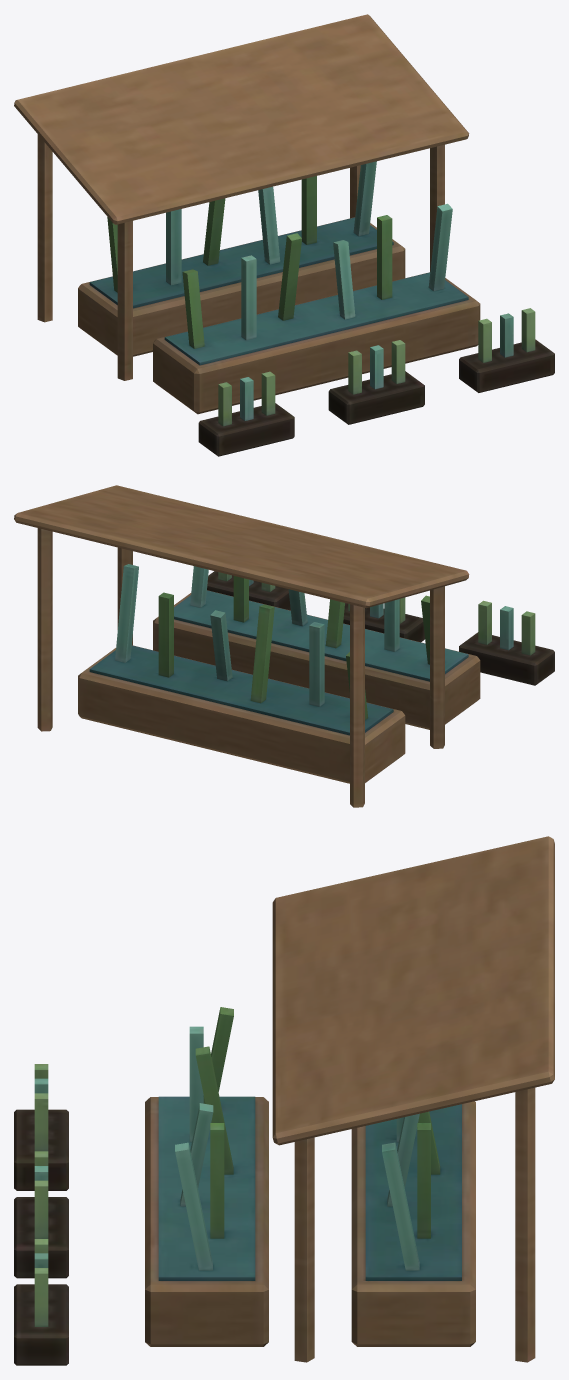
The model's file is greenhouse-2-age10.glb.
3 renders of one model, top to bottom at view 1: azimuth 30°, elevation 25°; view 2: azimuth 150°, elevation 25°; view 3: azimuth 270°, elevation 25°, orthographic. The views are drawn at different scales.
Parts seen in each view (by area): view 1: greenhouse-2-age10; view 2: greenhouse-2-age10; view 3: greenhouse-2-age10.
Part boxes in pixels (x1,y1,x2,y2): greenhouse-2-age10: (14, 14, 554, 456); greenhouse-2-age10: (14, 485, 554, 807); greenhouse-2-age10: (14, 836, 554, 1365).
Bounding box in the file's own units: 0.82 × 0.4791 × 0.7847.
Materials: 1 (1 with a texture image).
